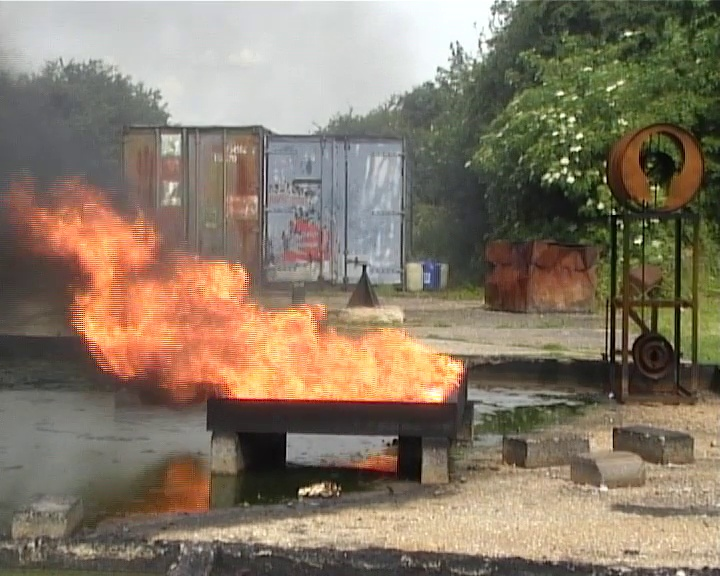fire: (46, 206, 454, 399)
